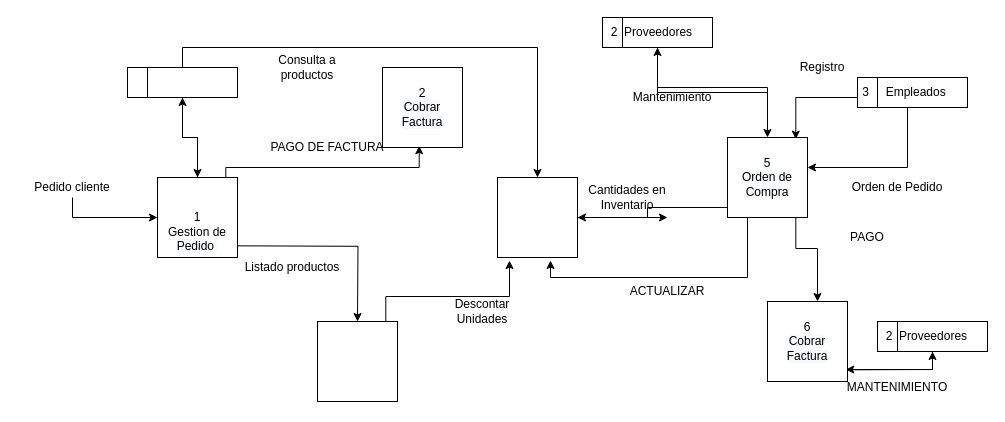
The diagram is 1005 pixels wide and 422 high, and some of its shapes have lost their labels. The centre of each missing label's shape, as x and y in pixels:
"1. Productos" belongs at [182,82].
"3 Bodega" belongs at [357,361].
"4 Inventario" belongs at [537,217].
